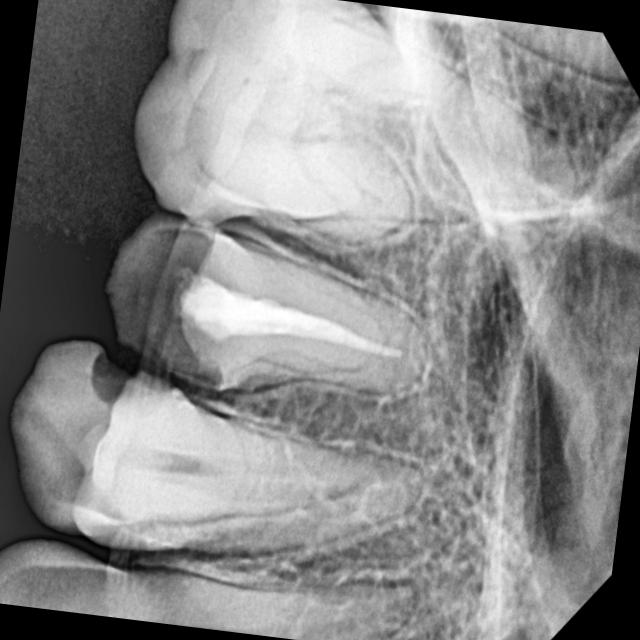Caries: (34, 292, 168, 453)
RCT: (166, 256, 427, 406)
